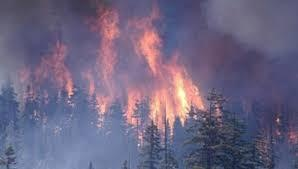fire: (110, 12, 207, 132)
